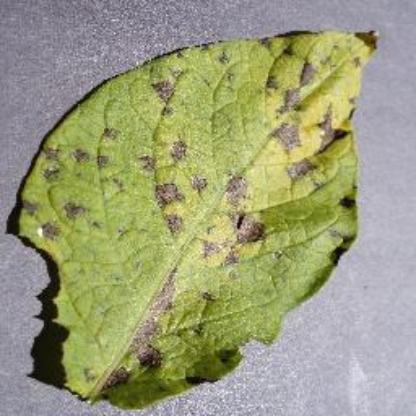Early-Blight: (10, 25, 382, 409)
